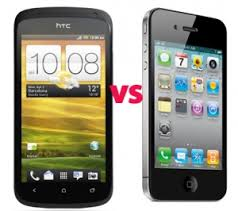htc: (10, 1, 116, 210)
iphone: (142, 5, 228, 201)
